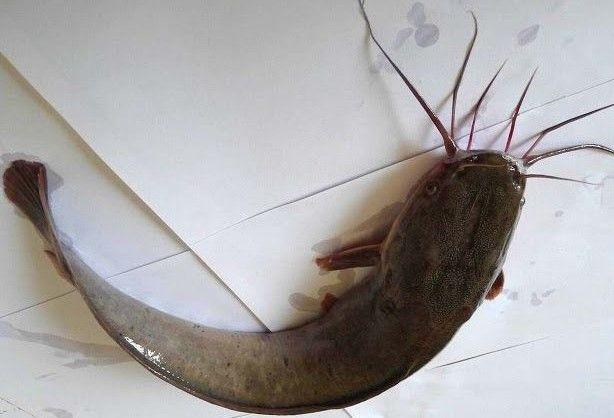Catfish: (6, 78, 549, 416)
